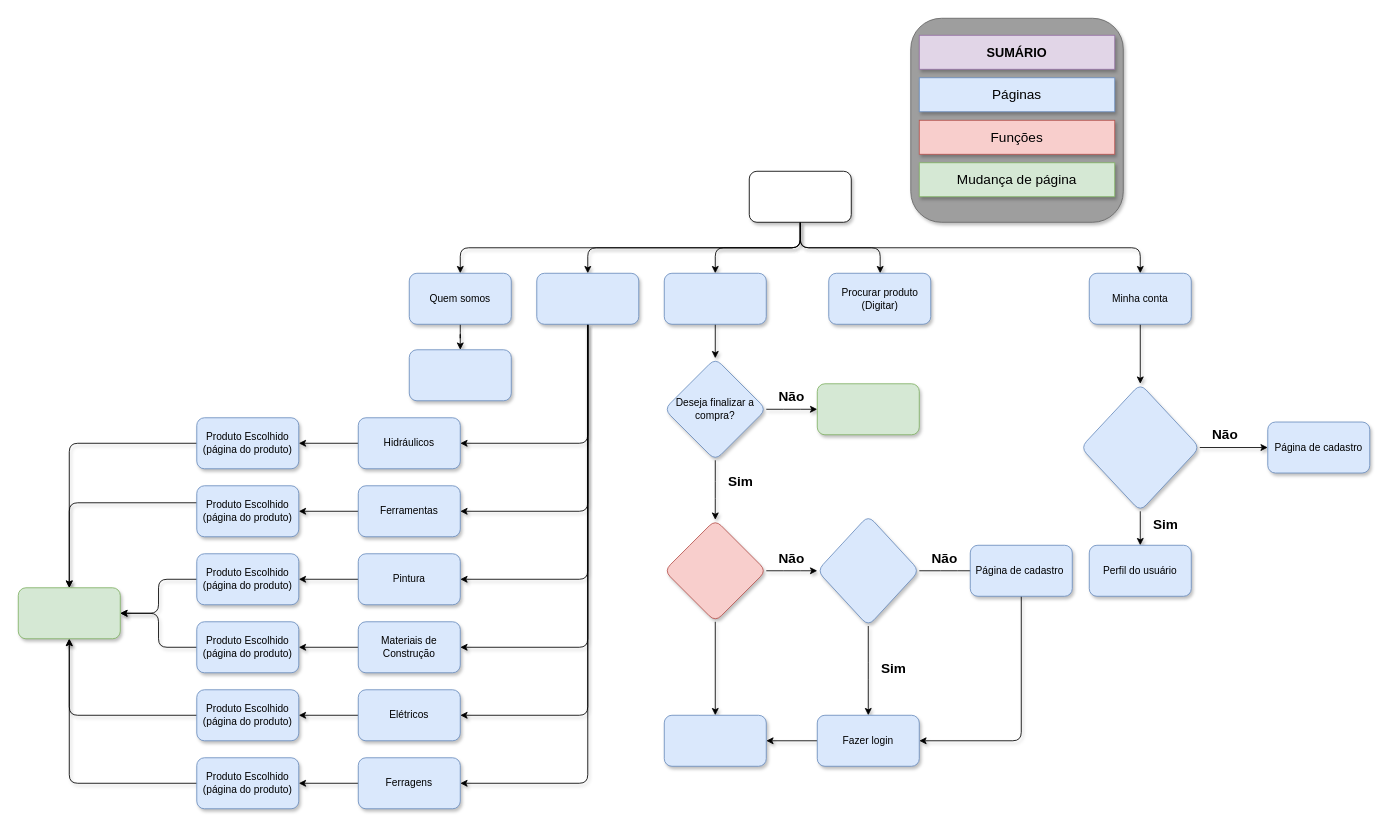
This 1390x830 diagram has some shape labels left out. Here are the shapes that lost their labels. From the top down, the centre of each, then its label:
At (800,197): "HOME".
At (588,299): "Produtos".
At (715,299): "Carrinho".
At (460,376): "Informações da empresa".
At (868,410): "Voltar para o home".
At (1141,448): "Possui uma conta? (Login ou cadastro)".
At (715,572): "Está logado?".
At (868,571): "Possui uma conta?".
At (69,614): "Direciona pro carrinho".
At (715,741): "Formas de contato para confirmação da compra".
